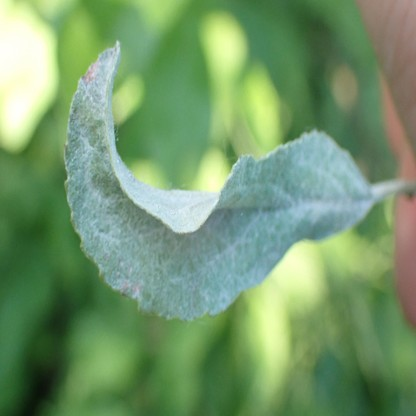powdery_mildew: (65, 40, 371, 324)
